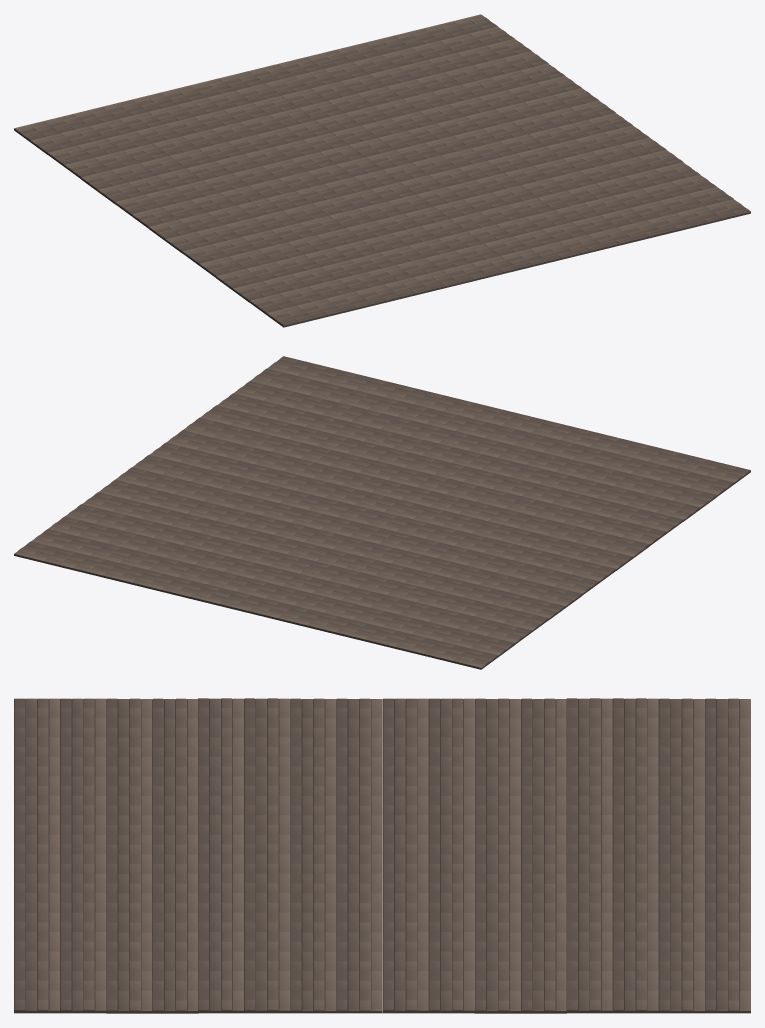
Rendered from wood_big_tales.glb.
3 views of the same model, one above another, from view 1: azimuth 30°, elevation 25°; view 2: azimuth 150°, elevation 25°; view 3: azimuth 270°, elevation 25° (orthographic). The views are drawn at different scales.
Parts seen in each view (by area): view 1: floor_wood_large_dark.001; view 2: floor_wood_large_dark.001; view 3: floor_wood_large_dark.001.
Boxes of the visible parts, x1=… form: floor_wood_large_dark.001: x1=14, y1=14, x2=750, y2=327; floor_wood_large_dark.001: x1=14, y1=356, x2=750, y2=669; floor_wood_large_dark.001: x1=14, y1=698, x2=750, y2=1013.
Bounding box in the file's own units: 31.94 × 0.1653 × 31.93.
Materials: 1 (1 with a texture image).
